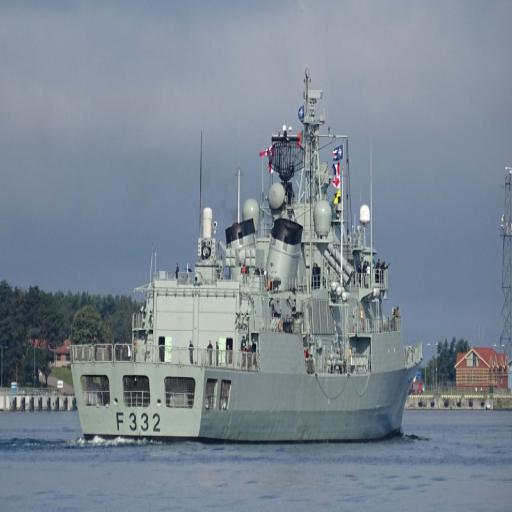Fragata: (69, 66, 428, 445)
